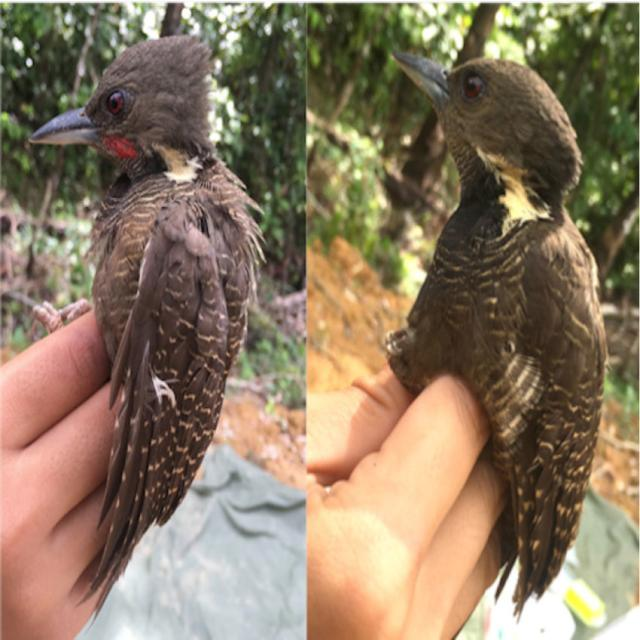Woodpecker: (39, 30, 256, 549)
